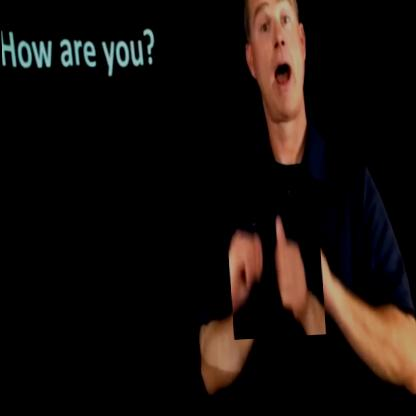HowAreYou: (223, 197, 324, 341)
